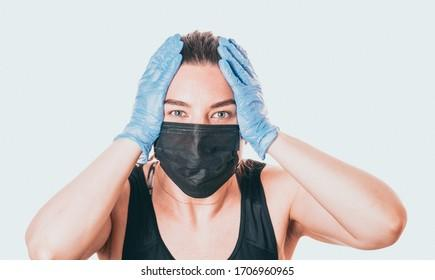gloves: (112, 32, 185, 166), (216, 37, 280, 160)
